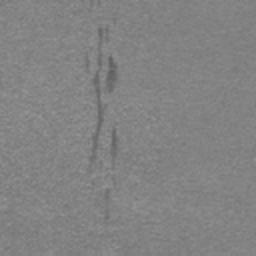Red iron sheet: (89, 74, 105, 163), (107, 56, 117, 92), (111, 129, 118, 158), (98, 27, 104, 45)
